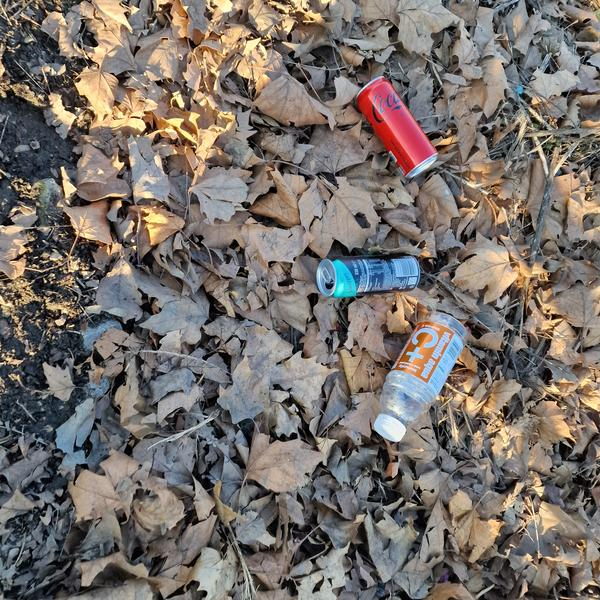can: (348, 71, 442, 183), (314, 250, 424, 300)
plastic_bottle: (361, 303, 473, 451)
